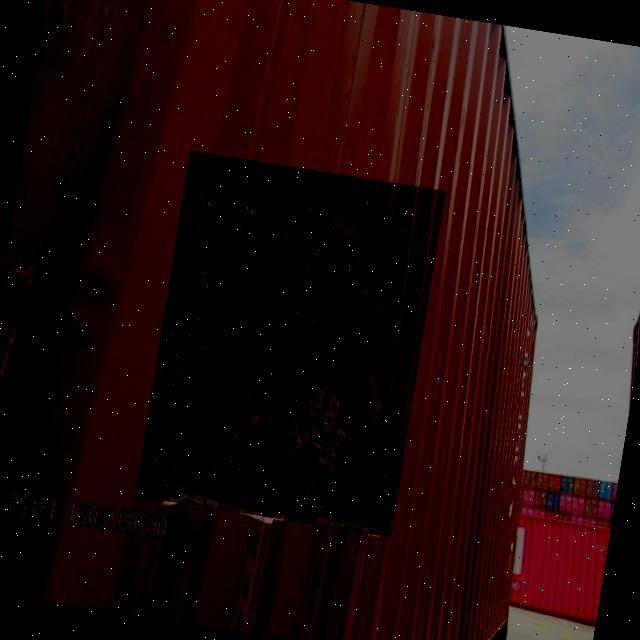Dent: (135, 151, 446, 537)
